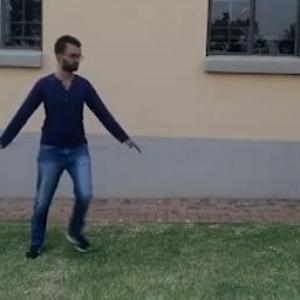land: (1, 41, 130, 231)
